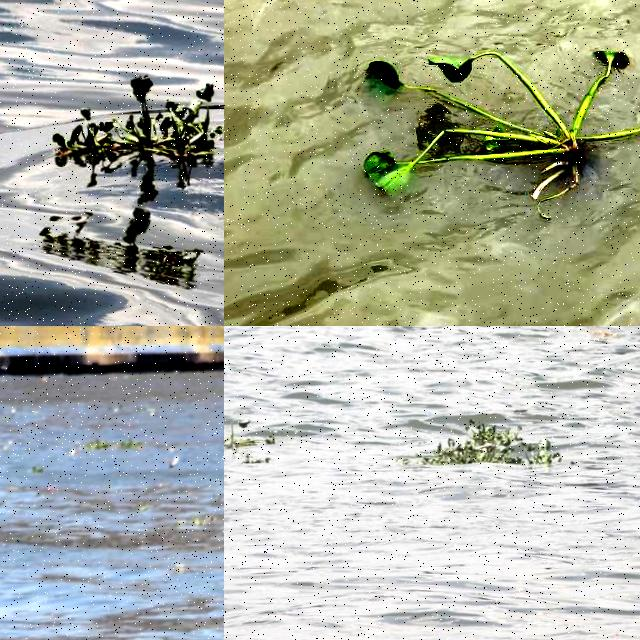water-hyacinth: (339, 31, 640, 210), (53, 80, 225, 171), (397, 419, 621, 469), (225, 418, 270, 448)
